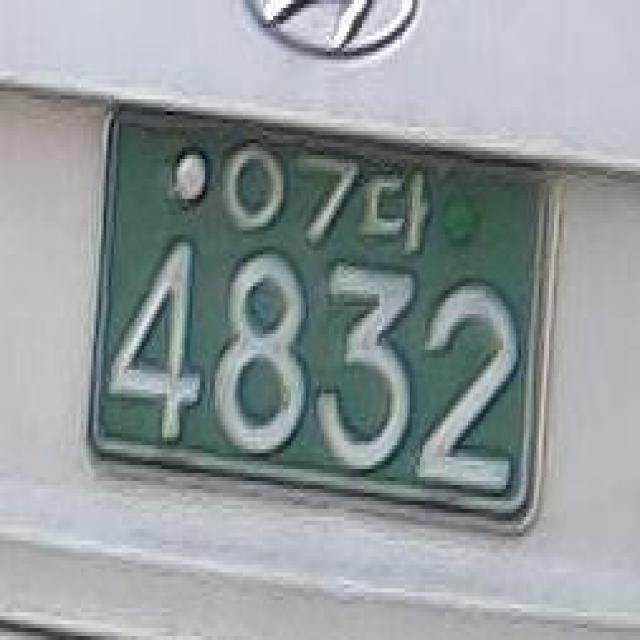illegal_plate: (78, 92, 570, 551)
